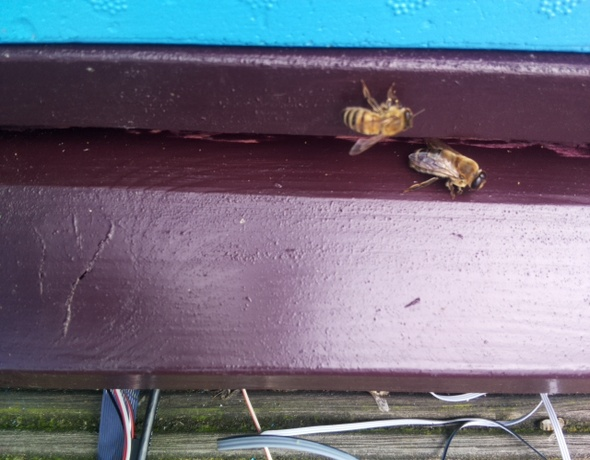no_pollen: (404, 135, 488, 198), (341, 89, 418, 148)
